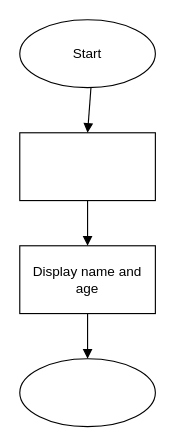
Image size: 175x446. Some labels were removed from this diagram. Here are the shapes that lost their labels. From the top down, the box of each, then its label:
(19, 132, 155, 201): Input name and age
(19, 358, 155, 427): End
